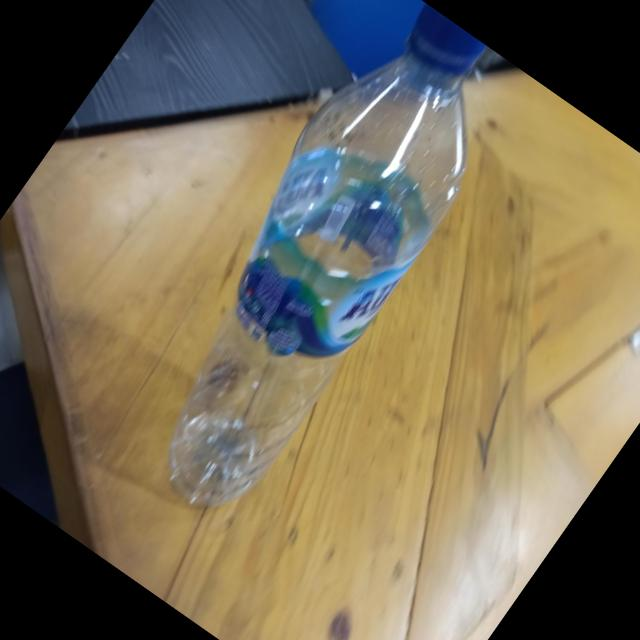BotolPlastik: (88, 0, 541, 531)
